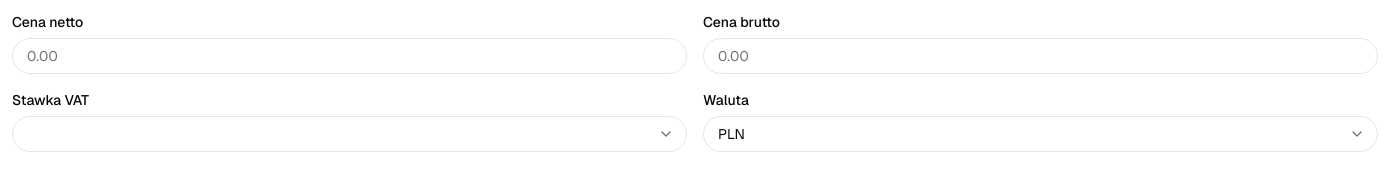
it: components/product-dialog/Step2Price › automatycznie przelicza kwotę netto po wpisaniu kwoty brutto
Type "246" into the field labelled "Cena brutto" at (1040, 56), box top-left (703, 38), bottom-right (1378, 74)
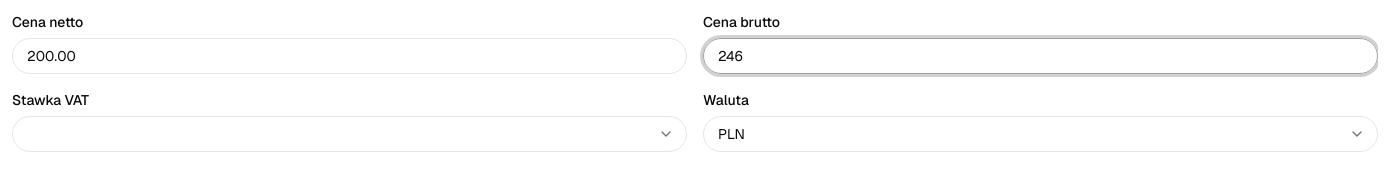
Now the field labelled "Cena netto" holds "200.00", box top-left (12, 38), bottom-right (687, 74)
